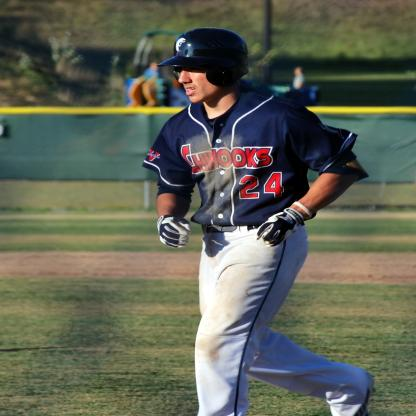Helmet: (160, 24, 250, 98)
